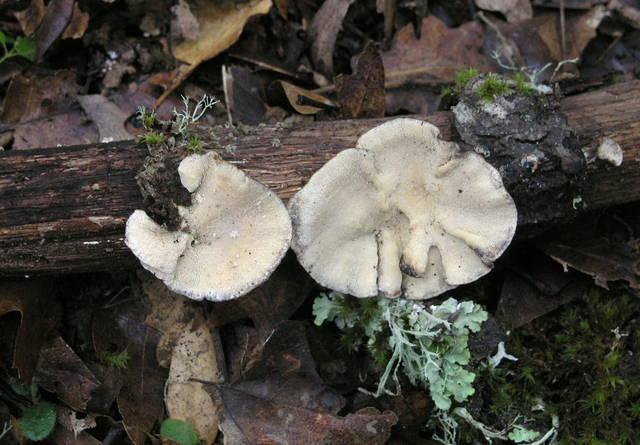poisonous_mushroom: (287, 116, 518, 301), (123, 150, 292, 303)
